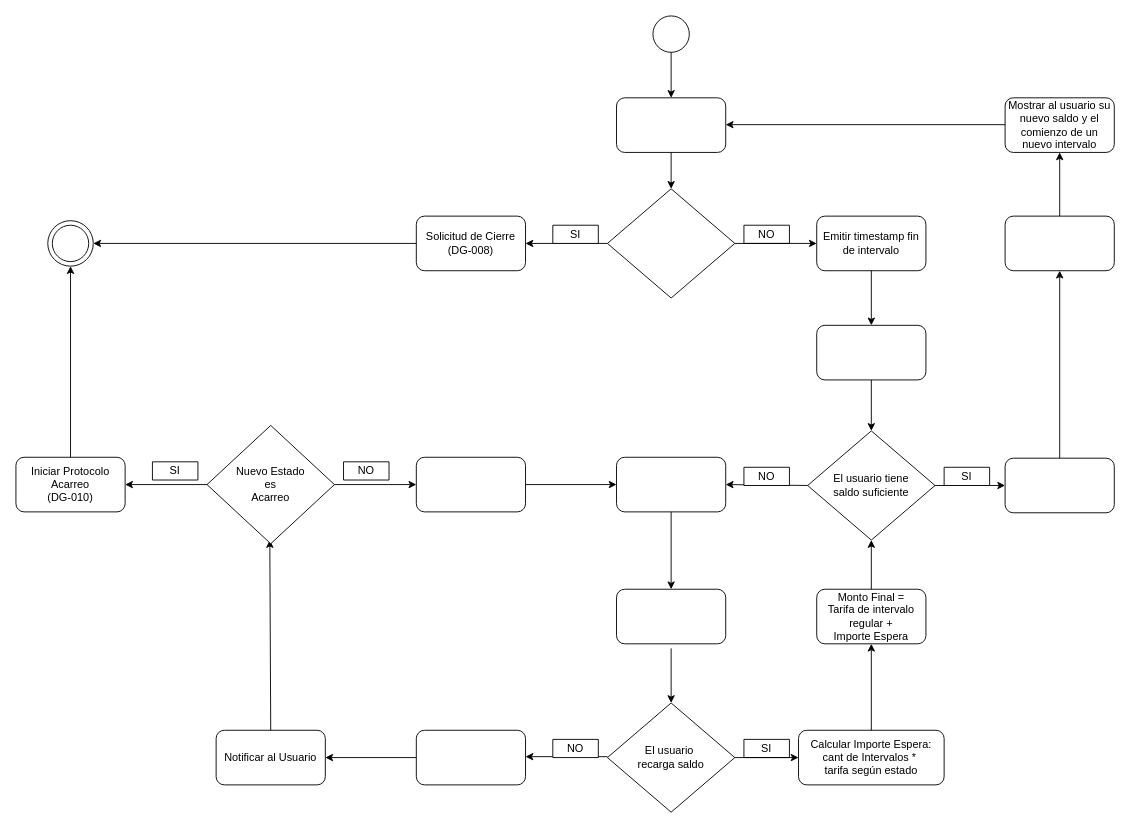
This 1130x828 diagram has some shape labels left out. The centre of each missing label's shape, as x and y in pixels:
Cobrar Monto Final: the point at 1059,485
Emitir solicitud de recarga de saldo: the point at 671,616
Escalar Sanción: the point at 470,757
Incrementer numero de intervalos de espera: the point at 470,484
Iniciar ventana de espera equivalente a un nuevo intervalo: the point at 671,484
Monto Final = Tarifa de intervalo regular: the point at 871,352
Registar timestamp inicio intervalo: the point at 671,124
Se solicita Cierre de Sesión antes de finalizar intervalo: the point at 671,243
Timestamp inicio = timestamp fin intervalo anterior: the point at 1059,243
